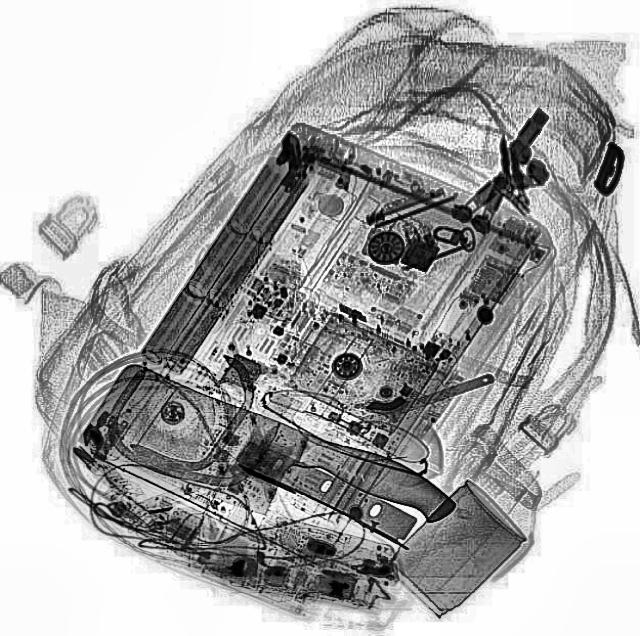Knife: (76, 347, 462, 584)
